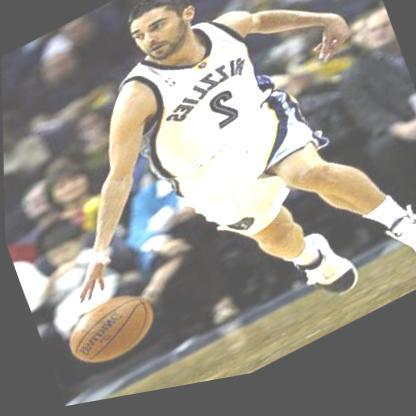basketball: (59, 284, 164, 382)
